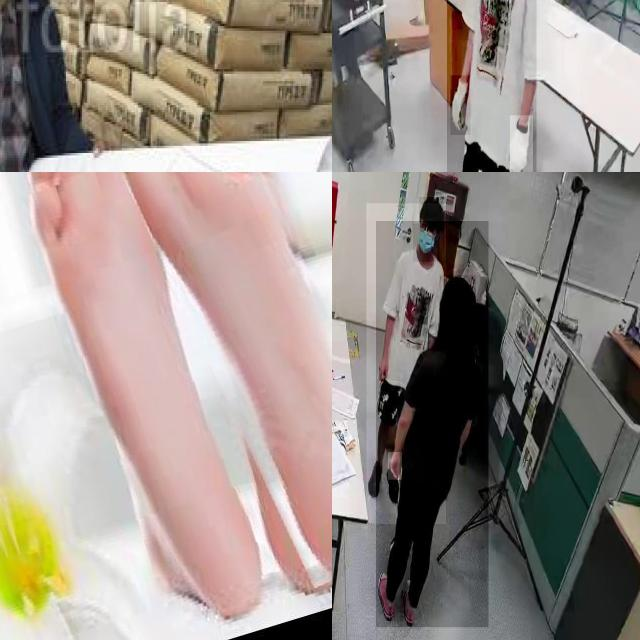Barefoots: (0, 172, 281, 640), (77, 172, 332, 603)
face_mask: (413, 224, 439, 262)
hand_glove: (510, 115, 533, 172), (451, 75, 471, 136)
hand_noglove: (388, 452, 402, 481), (378, 352, 389, 382)
head_nohelmet: (439, 275, 476, 313), (419, 197, 445, 222)
person: (376, 221, 489, 628), (366, 203, 446, 524), (447, 0, 537, 172)
shoes: (376, 569, 396, 624), (400, 573, 418, 627), (367, 457, 385, 499)
